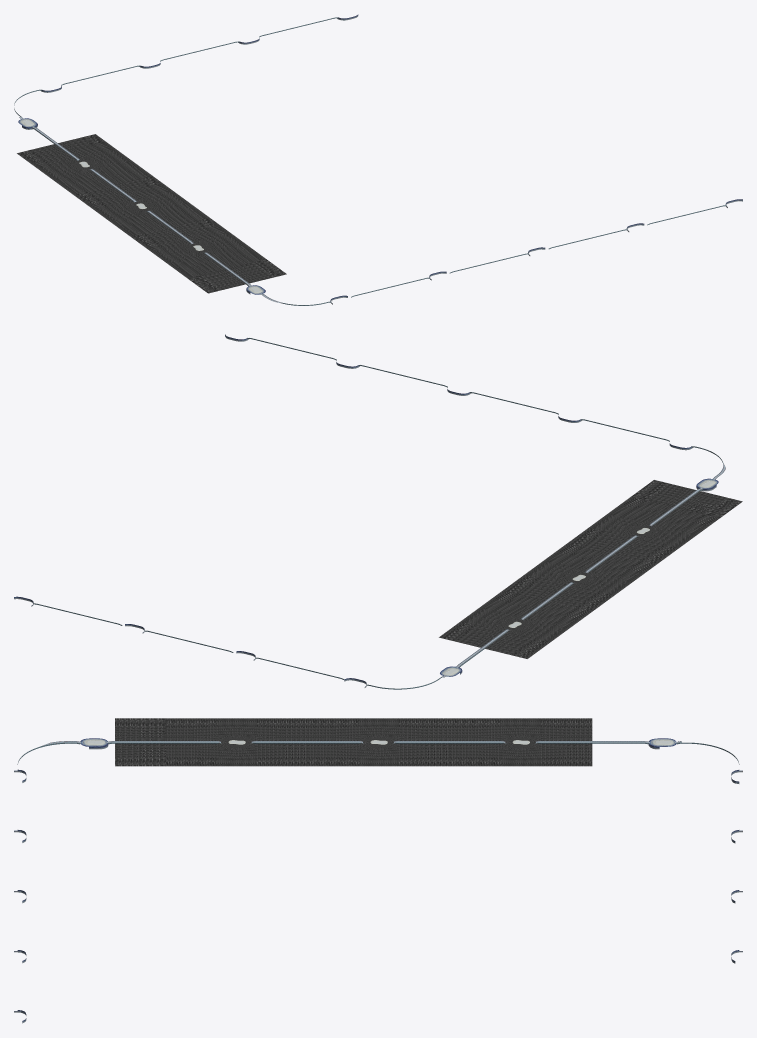
The model's file is Egg_treat2.obj.
3 views of the same model, one above another, from view 1: azimuth 30°, elevation 25°; view 2: azimuth 150°, elevation 25°; view 3: azimuth 270°, elevation 25° (orthographic). The views are drawn at different scales.
Visible parts, largest first — view 1: obj3, obj1, obj2; view 2: obj3, obj1, obj2; view 3: obj3, obj1, obj2.
Boxes of the visible parts, x1,y1,x2,y2 form: obj3: [17, 134, 286, 293]; obj1: [14, 14, 742, 305]; obj2: [32, 126, 251, 286]; obj3: [439, 480, 742, 658]; obj1: [14, 334, 725, 689]; obj2: [456, 488, 702, 667]; obj3: [115, 718, 592, 766]; obj1: [14, 738, 742, 1023]; obj2: [107, 740, 649, 744].
Size of the model in its own units: 25190 by 130 by 25650.
